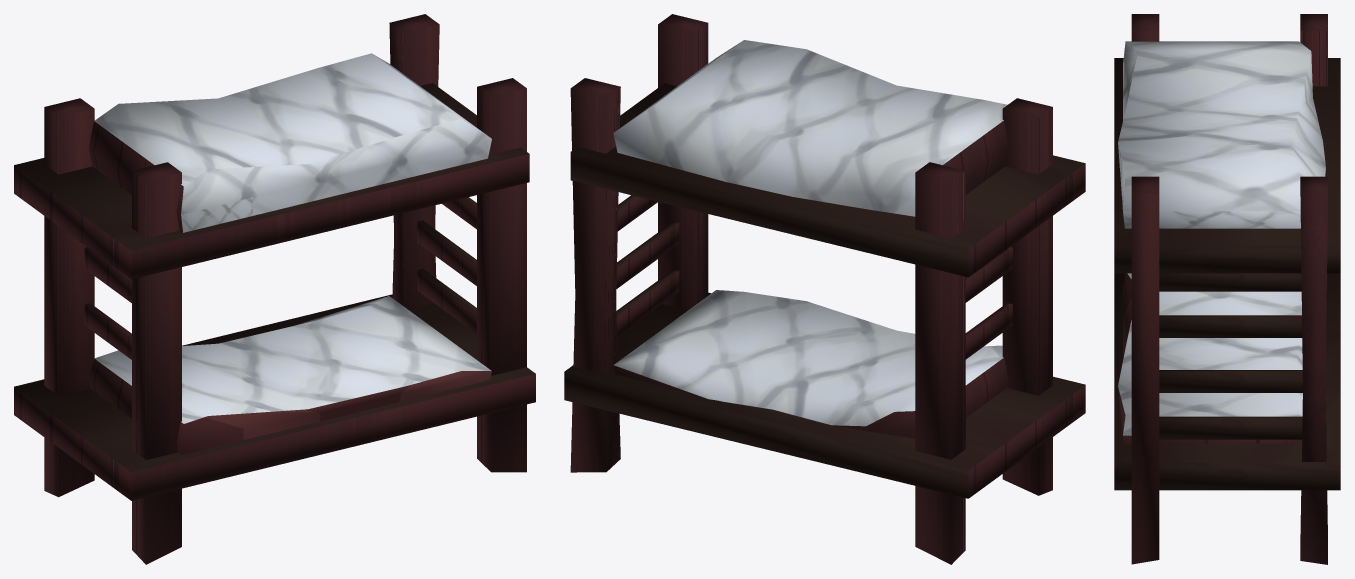
The model's file is Cama.fbx.
3 renders of one model, left to right at view 1: azimuth 30°, elevation 25°; view 2: azimuth 150°, elevation 25°; view 3: azimuth 270°, elevation 25°, orthographic. The views are drawn at different scales.
Parts seen in each view (by area): view 1: Cama; view 2: Cama; view 3: Cama.
Part boxes in pixels (left/top/right/bottom): Cama: left=14, top=14, right=535, bottom=564; Cama: left=564, top=14, right=1085, bottom=564; Cama: left=1114, top=14, right=1340, bottom=564.
Bounding box in the file's own units: 325 × 163 × 295.
